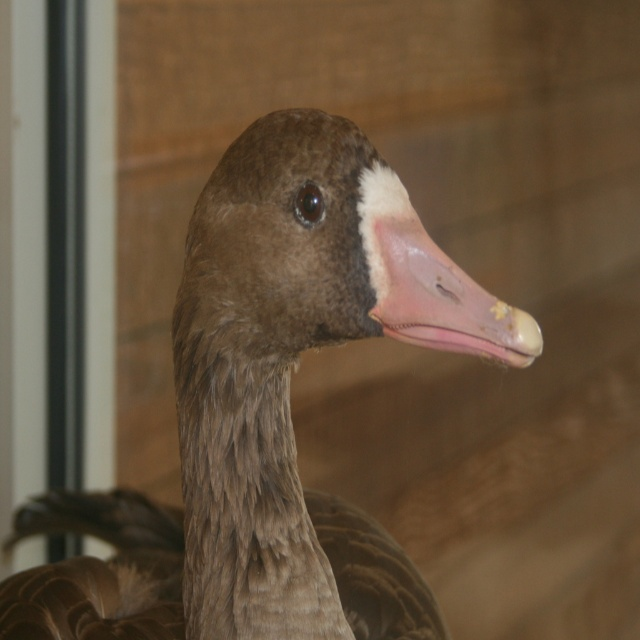Goose: (0, 103, 544, 639)
